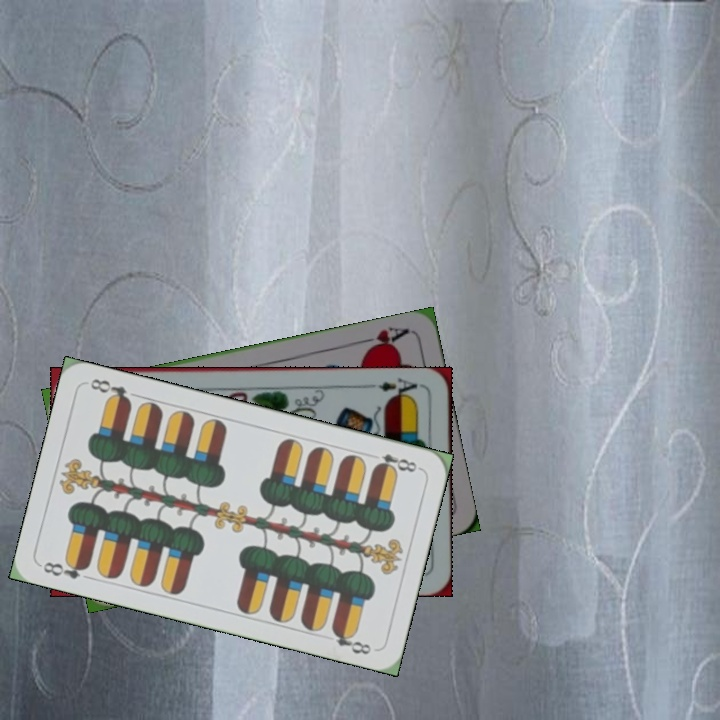E8: (370, 449, 423, 476), (39, 555, 92, 582)
EA: (374, 374, 425, 401)
HA: (353, 322, 412, 355)
